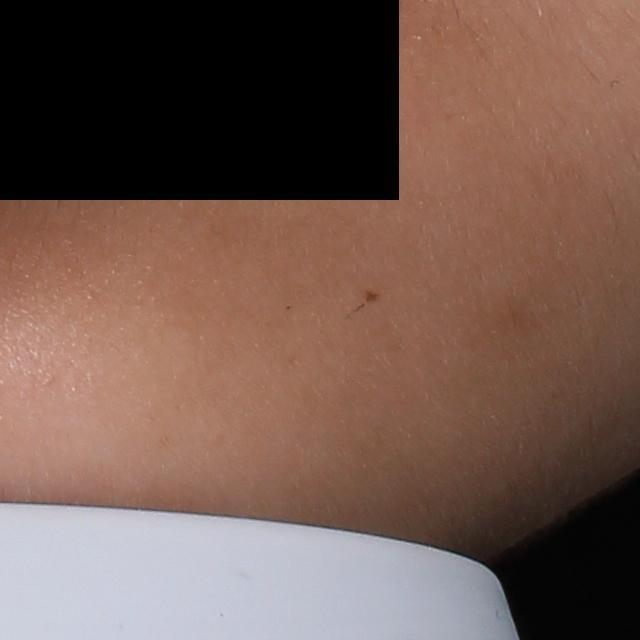nevus: (362, 288, 385, 308)
